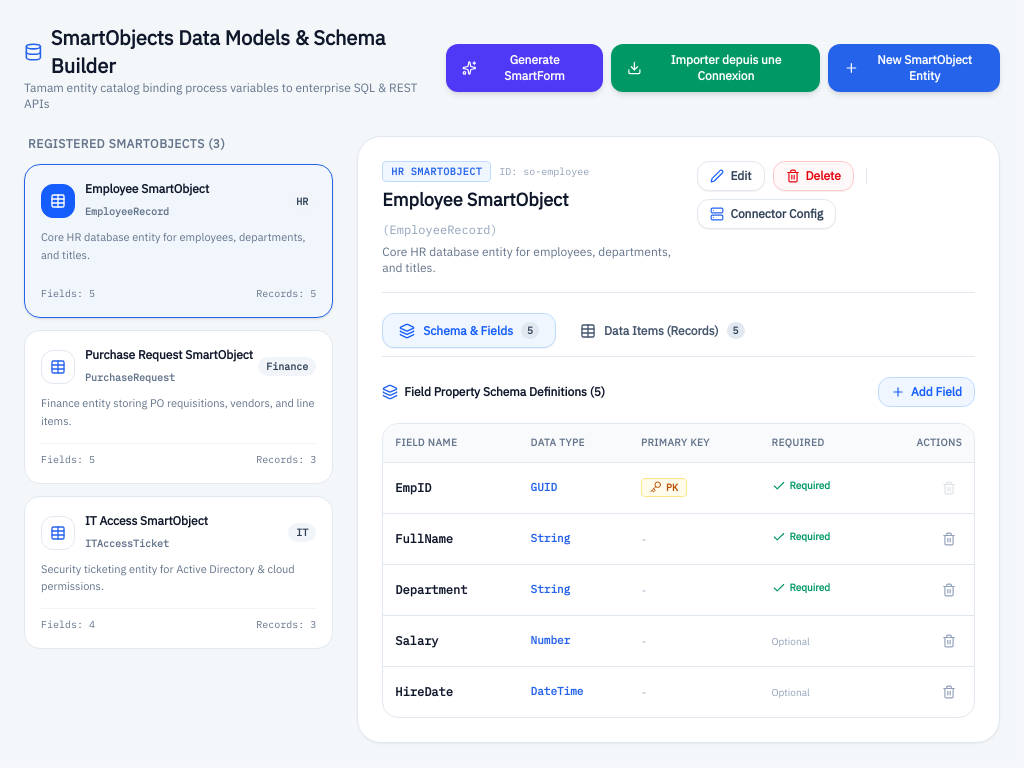
Test case: SmartObjects Entity & Data Items CRUD › renders DataModelsView with schema and records tabs, allowing navigation
Expected: the heading "SmartObjects Data Models & Schema Builder" is shown, x1=24 y1=24 x2=430 y2=80
Expected: the button with test id "tab-schema" is shown, x1=382 y1=313 x2=556 y2=348
Switch to records tab
Click the button with test id "tab-records". click: (662, 331)
box: x1=564 y1=314 x2=761 y2=347
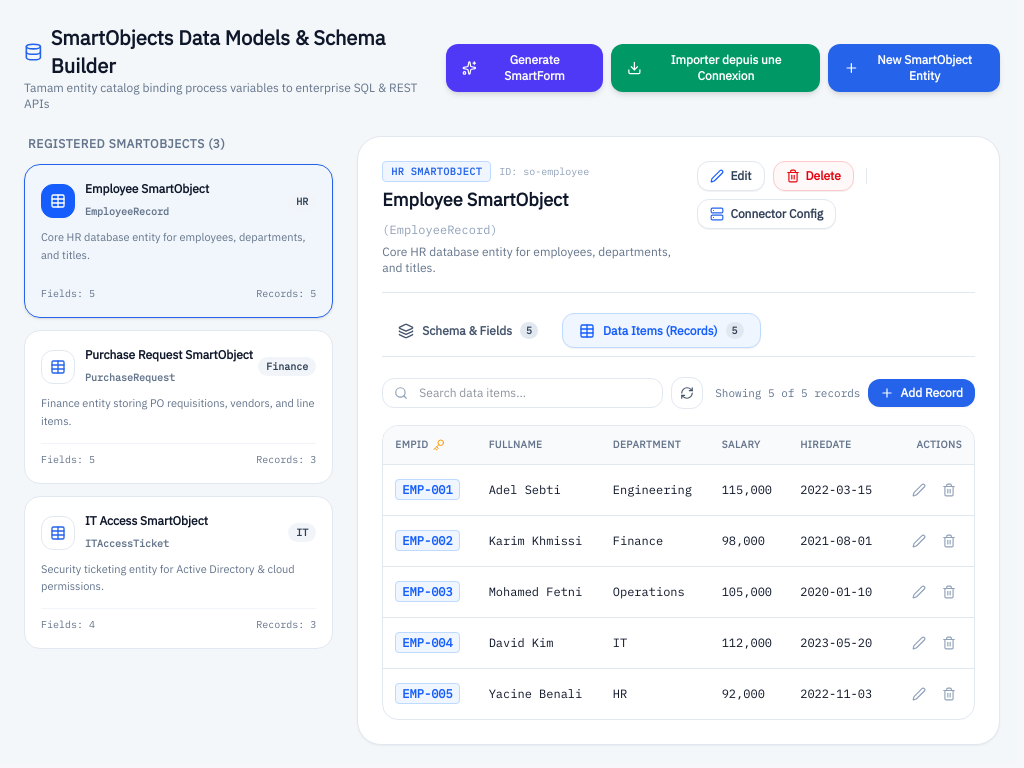
Expected: the field with test id "search-records-input" is shown, x1=382 y1=378 x2=663 y2=408
Expected: the button with test id "add-record-btn" is shown, x1=868 y1=379 x2=975 y2=407
Switch back to schema tab
Click the button with test id "tab-schema". click: (468, 331)
box: x1=382 y1=314 x2=554 y2=347
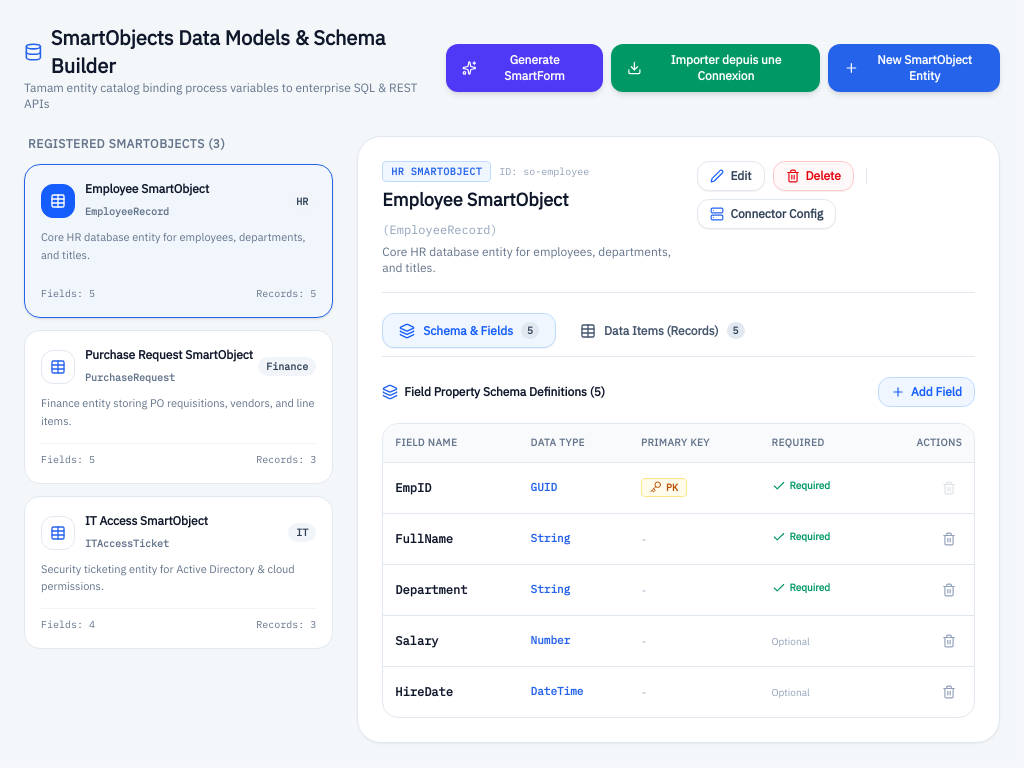
Expected: the button with test id "add-field-btn" is shown, x1=878 y1=377 x2=975 y2=407
